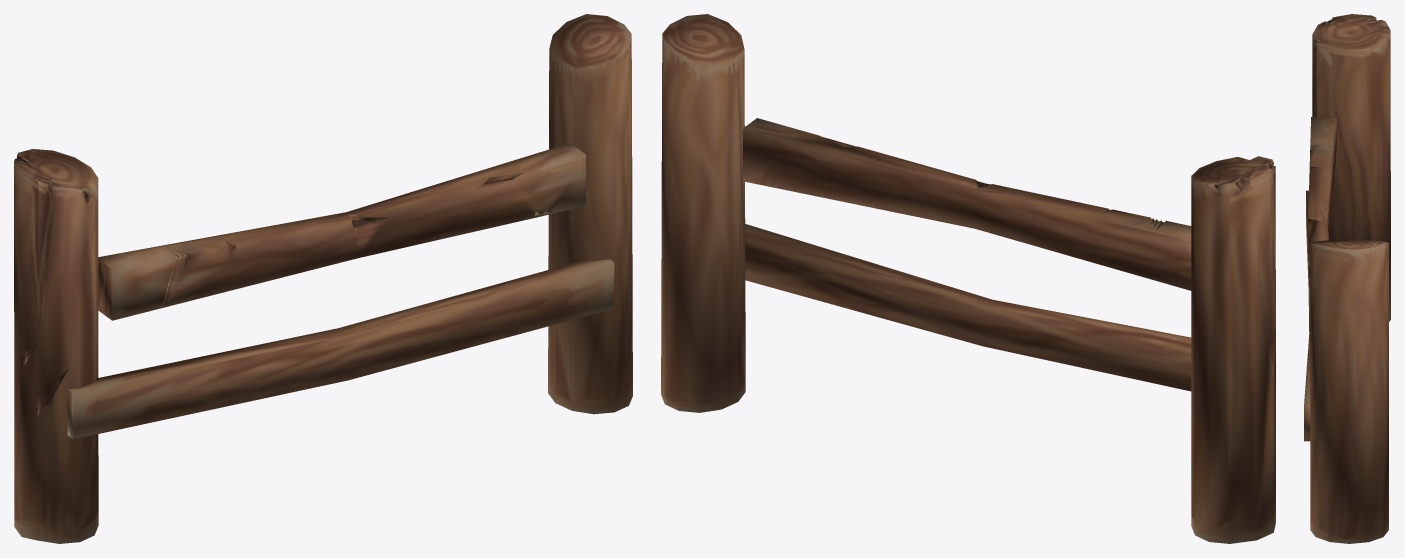
File: SM_Fence_01.fbx
3 renders of one model, left to right at view 1: azimuth 30°, elevation 25°; view 2: azimuth 150°, elevation 25°; view 3: azimuth 270°, elevation 25°, orthographic. The views are drawn at different scales.
Visible parts, largest first — view 1: pole 1, picket 2, picket 1, pole 2; view 2: pole 2, pole 1, picket 1, picket 2; view 3: pole 2, pole 1, picket 1, picket 2.
Part boxes in pixels (left/top/right/bottom): pole 1: left=14, top=149, right=98, bottom=543; picket 2: left=67, top=259, right=614, bottom=439; picket 1: left=98, top=143, right=585, bottom=320; pole 2: left=548, top=14, right=632, bottom=414; pole 2: left=661, top=14, right=745, bottom=412; pole 1: left=1191, top=156, right=1275, bottom=543; picket 1: left=742, top=118, right=1191, bottom=290; picket 2: left=745, top=224, right=1191, bottom=391; pole 2: left=1310, top=240, right=1388, bottom=543; pole 1: left=1312, top=14, right=1390, bottom=321; picket 1: left=1308, top=117, right=1336, bottom=345; picket 2: left=1304, top=190, right=1310, bottom=441.
Size of the model in its own units: 255 by 147 by 39.12.
Materials: 4 (4 with a texture image).
